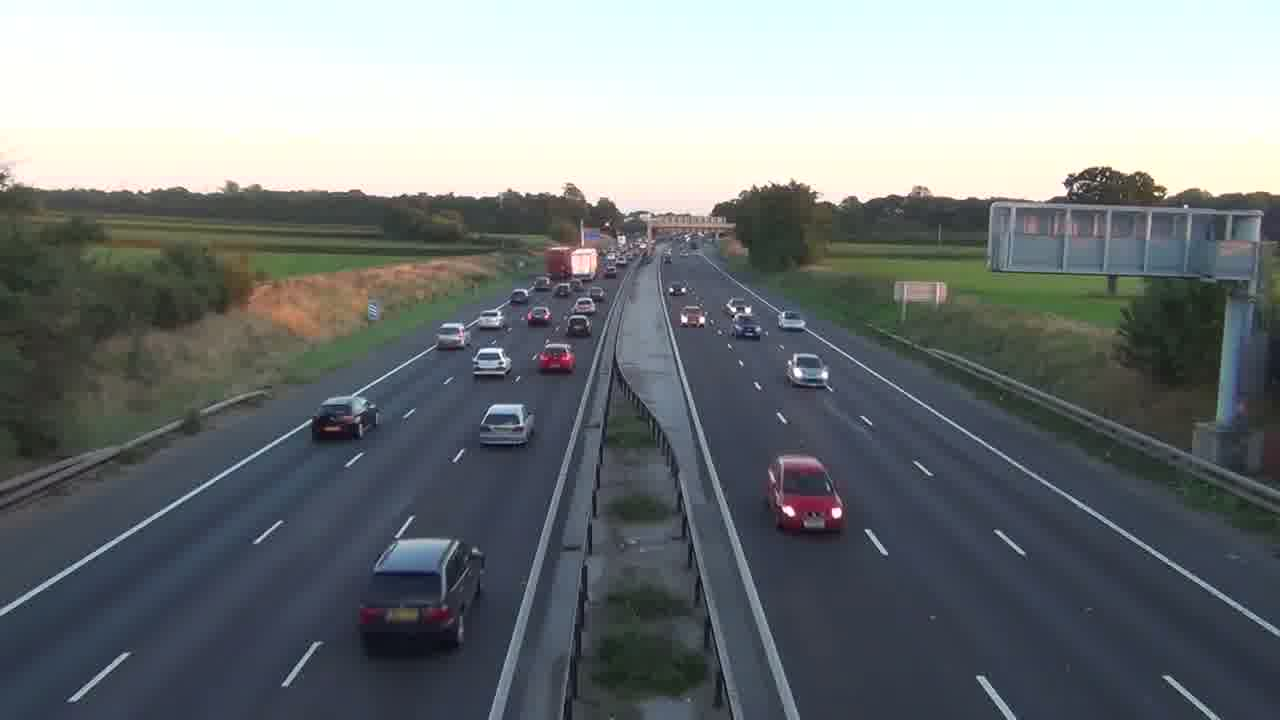car: (766, 452, 847, 534), (312, 395, 380, 442), (477, 402, 535, 447), (784, 352, 832, 390), (471, 346, 512, 379), (534, 341, 576, 373), (435, 321, 467, 350), (679, 305, 707, 328), (778, 309, 806, 331), (566, 315, 593, 337)
truck: (356, 534, 485, 653)
